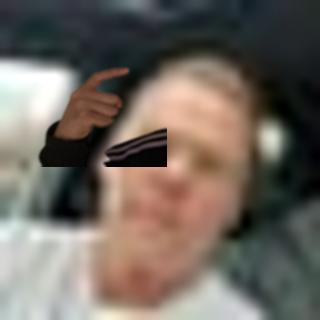WHY: (54, 61, 135, 140)
